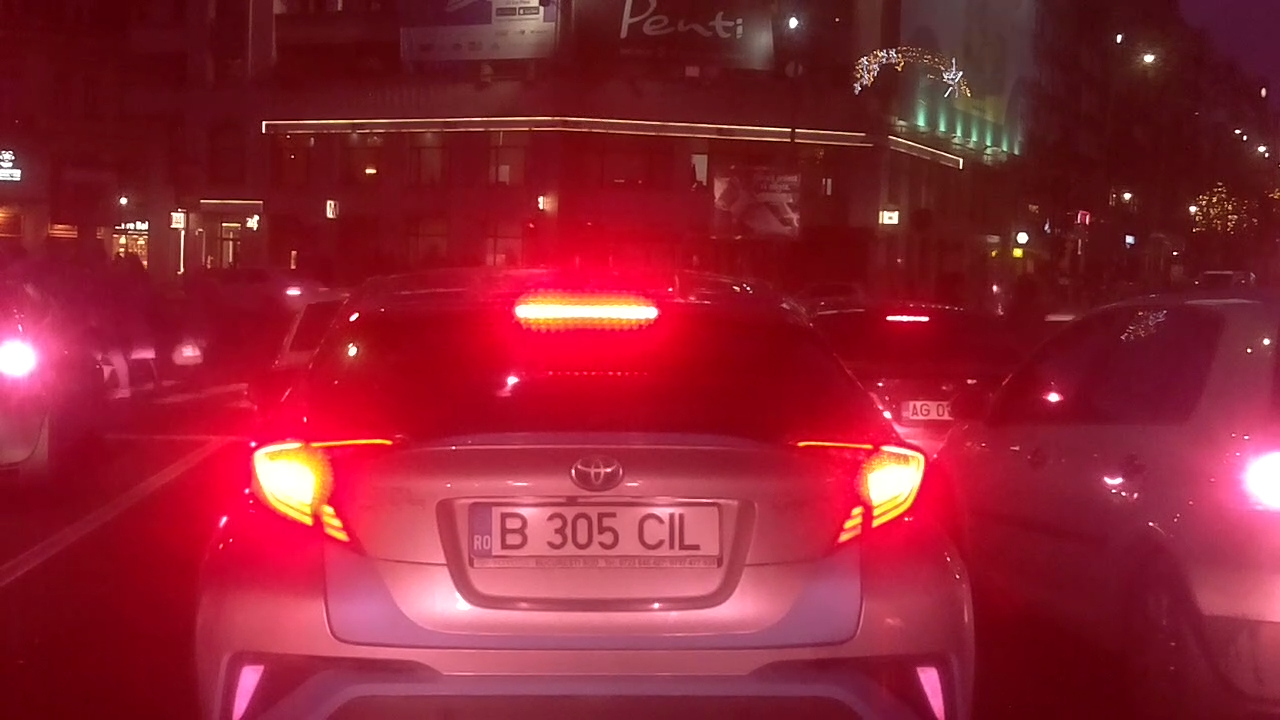license-plate: (464, 500, 727, 564)
